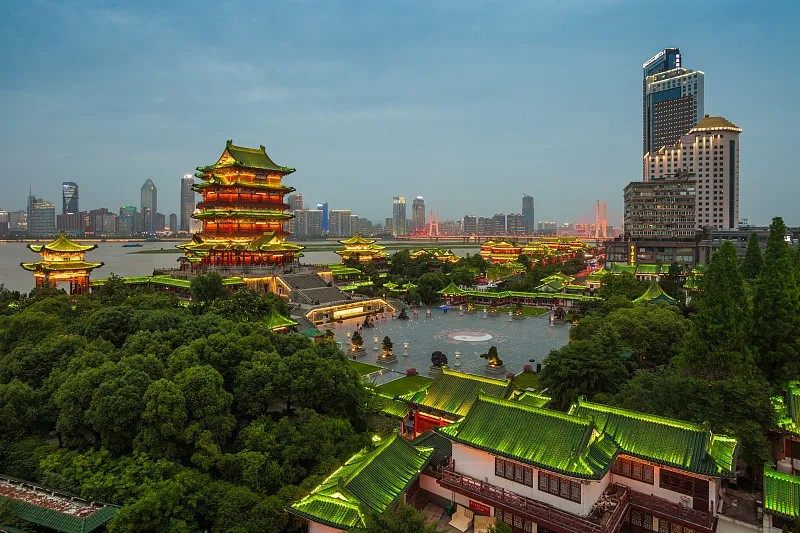Teng: (176, 140, 307, 270)
